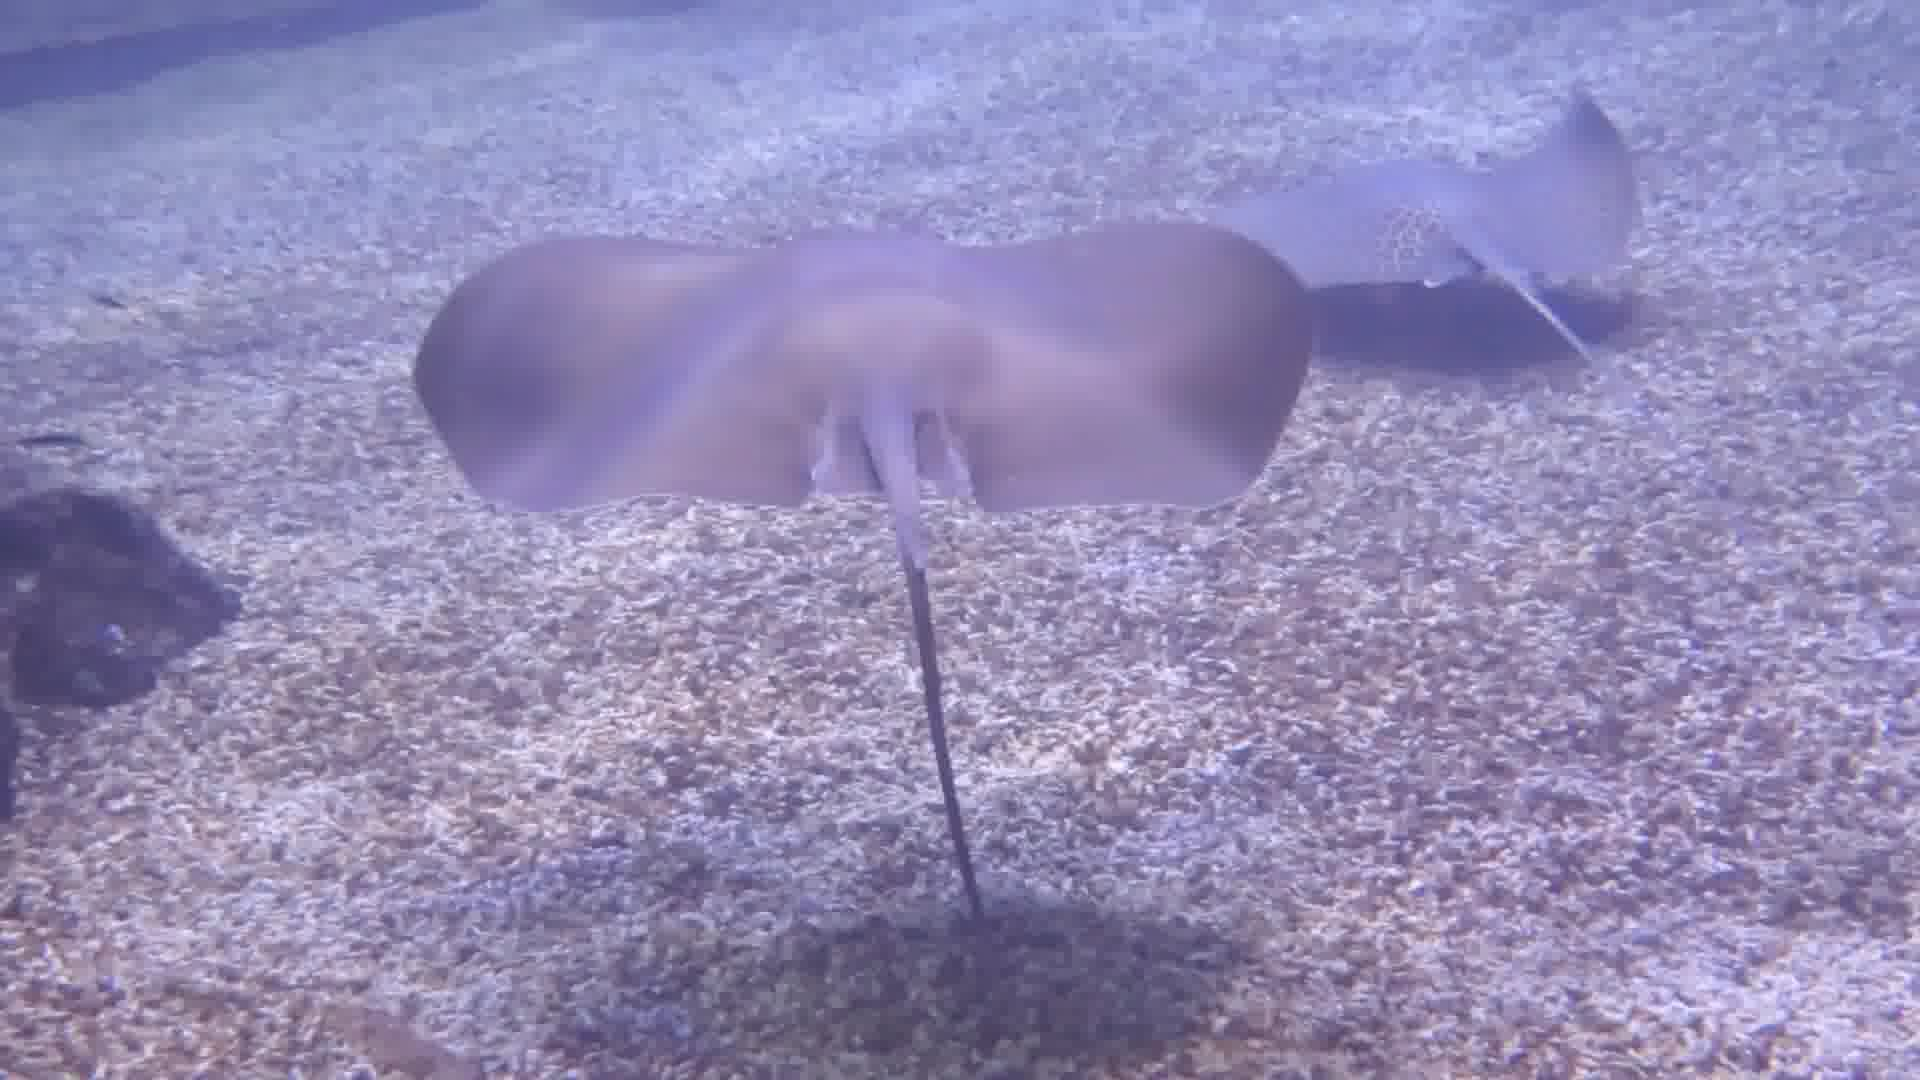Dasyatis akajei: (401, 153, 1349, 982)
